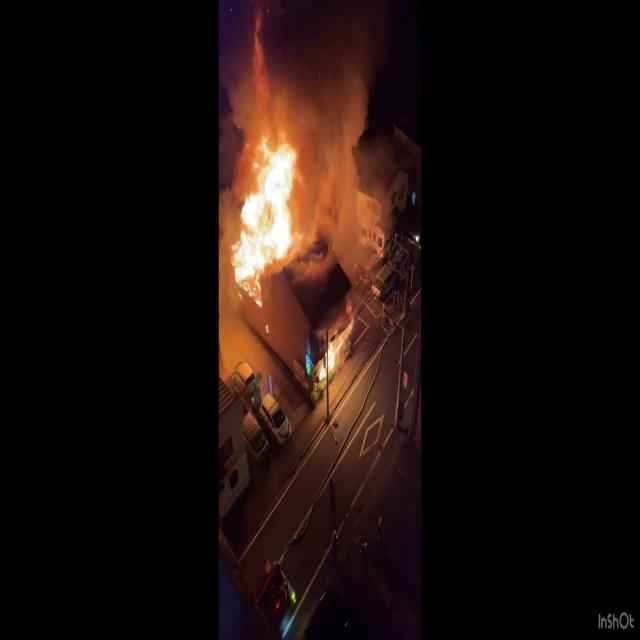Fire: (224, 110, 312, 292), (315, 327, 343, 394)
Smoke: (221, 0, 368, 177)
